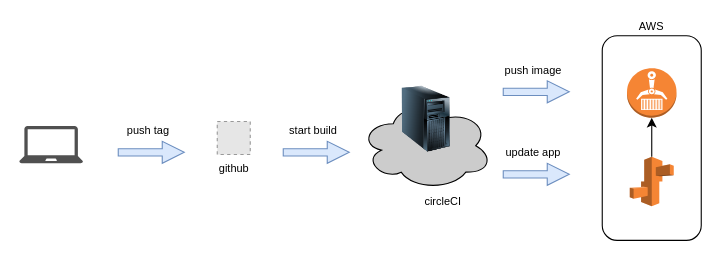
This 721x260 diagram has some shape labels left out. Grey dashed boxes stand in for pictures. Each missing label, with the centre of its shape:
"EB" belongs at [651,181].
"ECR" belongs at [651,92].
